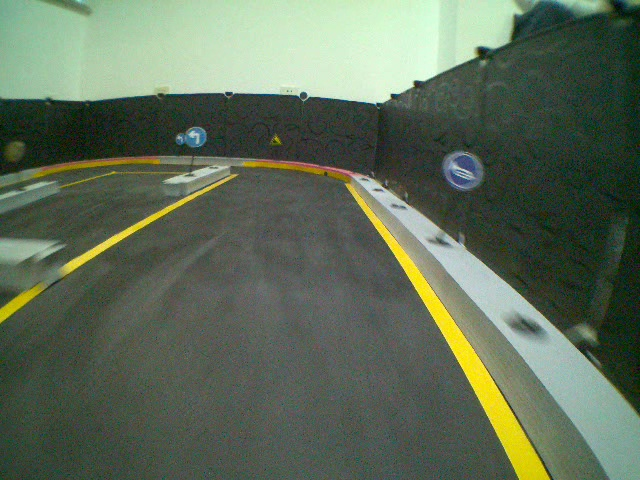fast: (266, 132, 283, 148)
horn: (442, 149, 485, 192)
turn: (186, 127, 208, 149)
